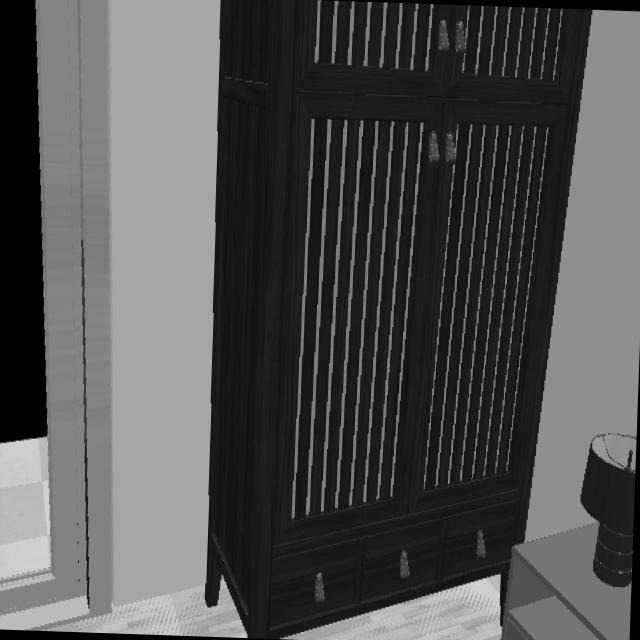lamp: (580, 432, 636, 587)
nighttable: (501, 522, 631, 640)
wardrobe: (205, 0, 594, 639)
